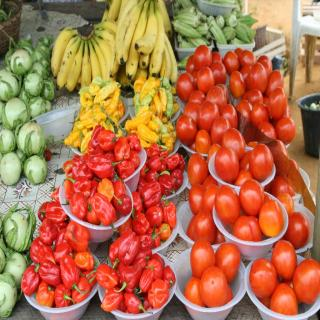tomato: (199, 264, 227, 305), (292, 260, 320, 300), (272, 238, 297, 282), (250, 259, 278, 297), (214, 243, 241, 281), (240, 175, 264, 216), (189, 239, 215, 276), (214, 185, 240, 222), (215, 142, 239, 180), (270, 283, 298, 315), (250, 142, 274, 179), (259, 201, 285, 235), (193, 210, 217, 246), (233, 212, 262, 241), (288, 211, 310, 247), (175, 113, 197, 145), (267, 85, 288, 117), (223, 128, 245, 158), (247, 62, 267, 94), (188, 153, 208, 183), (198, 100, 218, 130), (276, 114, 296, 144), (176, 72, 195, 101), (188, 182, 204, 215), (184, 274, 202, 303), (228, 70, 246, 98), (197, 64, 216, 90), (211, 116, 230, 142), (273, 173, 295, 194), (277, 192, 296, 216), (222, 104, 238, 132), (194, 44, 211, 70), (267, 68, 284, 94), (206, 85, 224, 109), (195, 128, 211, 154), (203, 185, 219, 211), (251, 101, 270, 122), (182, 100, 200, 122), (223, 51, 239, 74), (258, 120, 277, 139), (211, 61, 226, 82), (234, 167, 253, 183), (237, 97, 251, 118), (238, 150, 252, 170), (246, 86, 262, 103), (216, 83, 230, 102), (190, 88, 205, 105), (240, 50, 257, 64), (258, 56, 272, 71), (202, 172, 218, 185), (186, 54, 195, 75), (211, 52, 223, 64), (240, 64, 250, 76), (233, 47, 246, 56), (226, 285, 233, 300)
